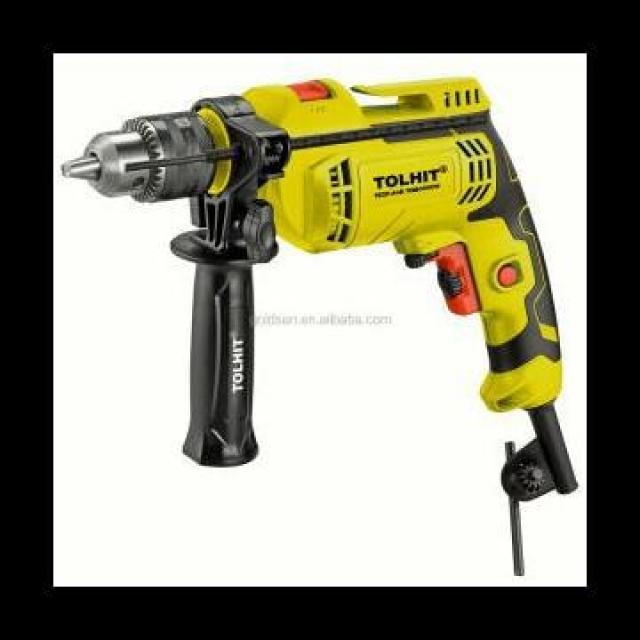drill: (58, 75, 580, 497)
